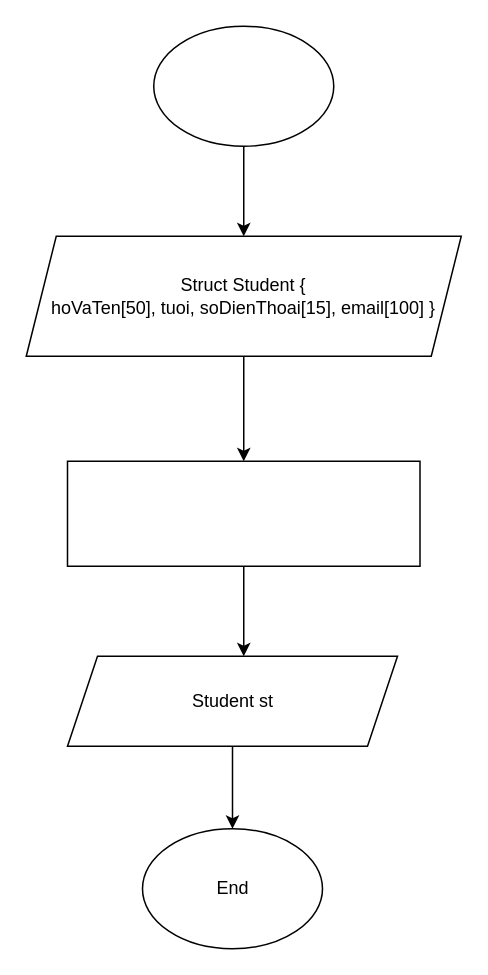
Some shapes in this 488 by 975 pixel diagram are drawn without their labels. The shapes that lost their labels are listed below. From the top down, each one's centre as x and y in pixels, then its label:
(x=243, y=85): Start
(x=243, y=513): hoVaTen:....... tuoi:........ soDienThoai:.......... email:............
